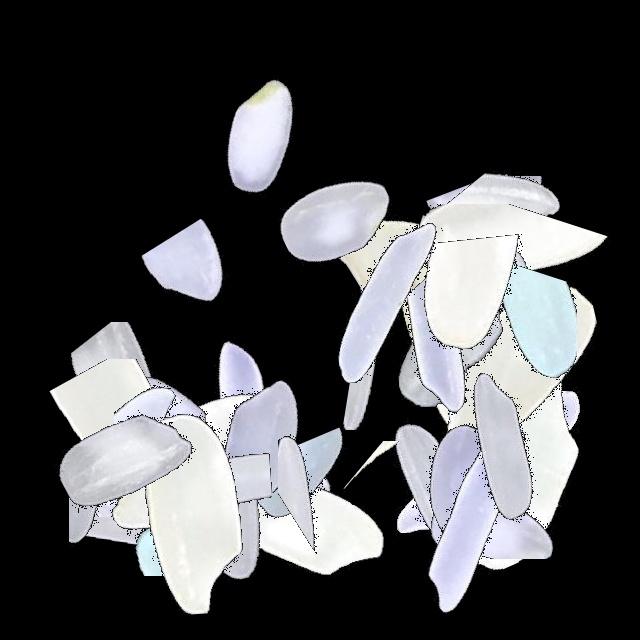Broken: (15, 322, 265, 493), (98, 368, 348, 538), (346, 343, 596, 510), (235, 58, 400, 308), (368, 258, 532, 508), (342, 268, 592, 425), (0, 359, 250, 513), (378, 410, 628, 559), (390, 170, 640, 318), (245, 390, 390, 640), (136, 174, 280, 424), (438, 210, 577, 460), (375, 204, 625, 340), (19, 390, 151, 640), (378, 176, 628, 307), (414, 179, 545, 429), (81, 419, 331, 547), (278, 349, 406, 599), (69, 390, 196, 640), (290, 305, 540, 430), (427, 124, 547, 374), (49, 468, 299, 576), (114, 285, 219, 535), (495, 214, 586, 464), (279, 441, 529, 531), (390, 206, 640, 288), (323, 287, 573, 369), (0, 438, 250, 517)
Full: (293, 133, 543, 383), (119, 332, 369, 582), (116, 319, 366, 569), (344, 188, 594, 438), (168, 390, 418, 640), (364, 338, 614, 588), (135, 9, 385, 259), (324, 222, 574, 472), (332, 203, 582, 453), (70, 335, 320, 585), (390, 348, 640, 598), (353, 186, 603, 436), (305, 364, 555, 614), (390, 247, 640, 497), (109, 390, 359, 640), (28, 302, 278, 552), (69, 390, 319, 640), (0, 333, 250, 583), (340, 355, 590, 605), (261, 179, 511, 429), (353, 390, 603, 640), (374, 323, 624, 573)
